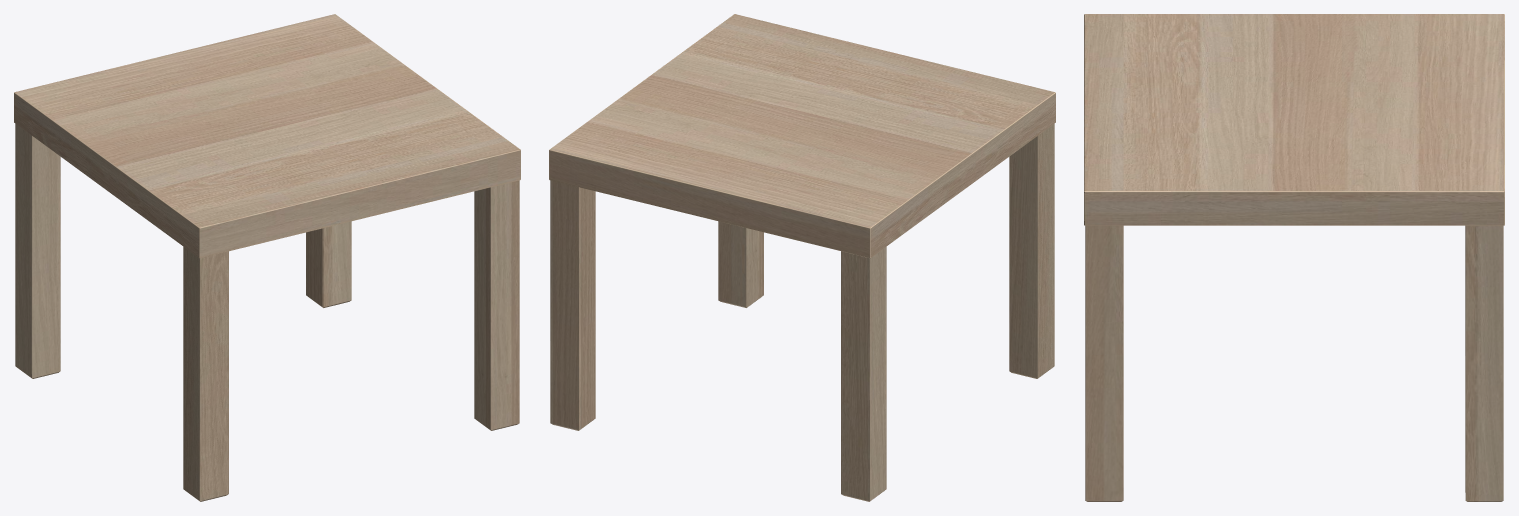
The picture shows the model from 3 angles, left to right: view 1: azimuth 30°, elevation 25°; view 2: azimuth 150°, elevation 25°; view 3: azimuth 270°, elevation 25°; orthographic projection. The views are drawn at different scales.
Visible parts, largest first — view 1: model; view 2: model; view 3: model.
Part boxes in pixels (box(x1,y1,x2,y2)): model: box(14, 14, 520, 501); model: box(549, 14, 1055, 501); model: box(1084, 14, 1504, 501).
Bounding box in the file's own units: 0.55 × 0.45 × 0.55.
Materials: 1 (1 with a texture image).
